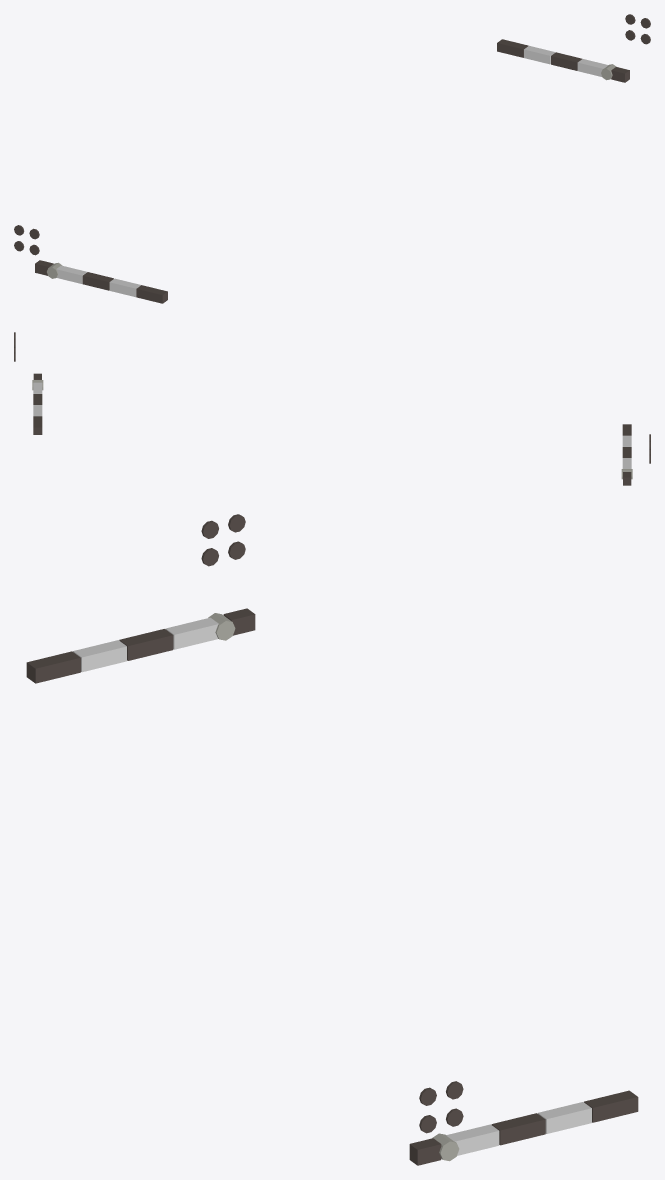
File: SM_PasoNivel_30E_v1_FocosDobles_LOD1.fbx
3 renders of one model, top to bottom at view 1: azimuth 30°, elevation 25°; view 2: azimuth 150°, elevation 25°; view 3: azimuth 270°, elevation 25°, orthographic. The views are drawn at different scales.
Parts seen in each view (by area): view 1: Barrera_2, Barrera_1; view 2: Barrera_2, Barrera_1; view 3: Barrera_1, Barrera_2, Luces_A, Luces_B.
Part boxes in pixels (left/top/right/bottom): Barrera_2: left=35, top=260, right=167, bottom=303; Barrera_1: left=497, top=39, right=629, bottom=82; Barrera_2: left=621, top=424, right=632, bottom=485; Barrera_1: left=32, top=373, right=43, bottom=434; Barrera_1: left=409, top=1090, right=638, bottom=1165; Barrera_2: left=26, top=608, right=255, bottom=683; Luces_A: left=228, top=514, right=463, bottom=1126; Luces_B: left=201, top=520, right=436, bottom=1133.
Size of what is drawn, in the model's own units: 24.99 by 1.91 by 11.16.
